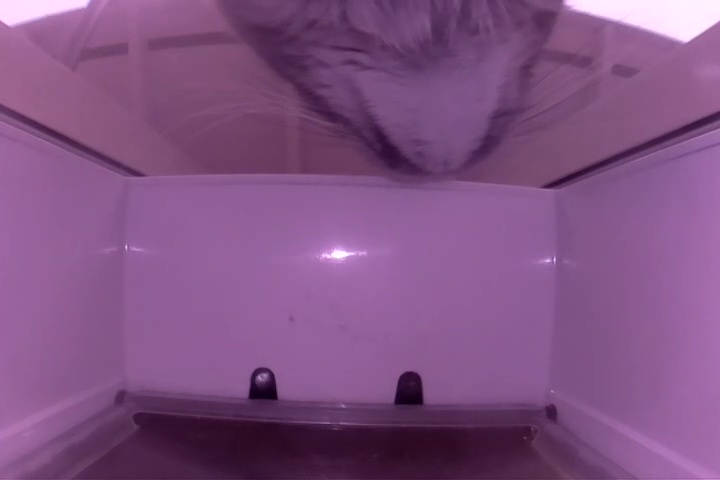Snout: (350, 89, 515, 181)
